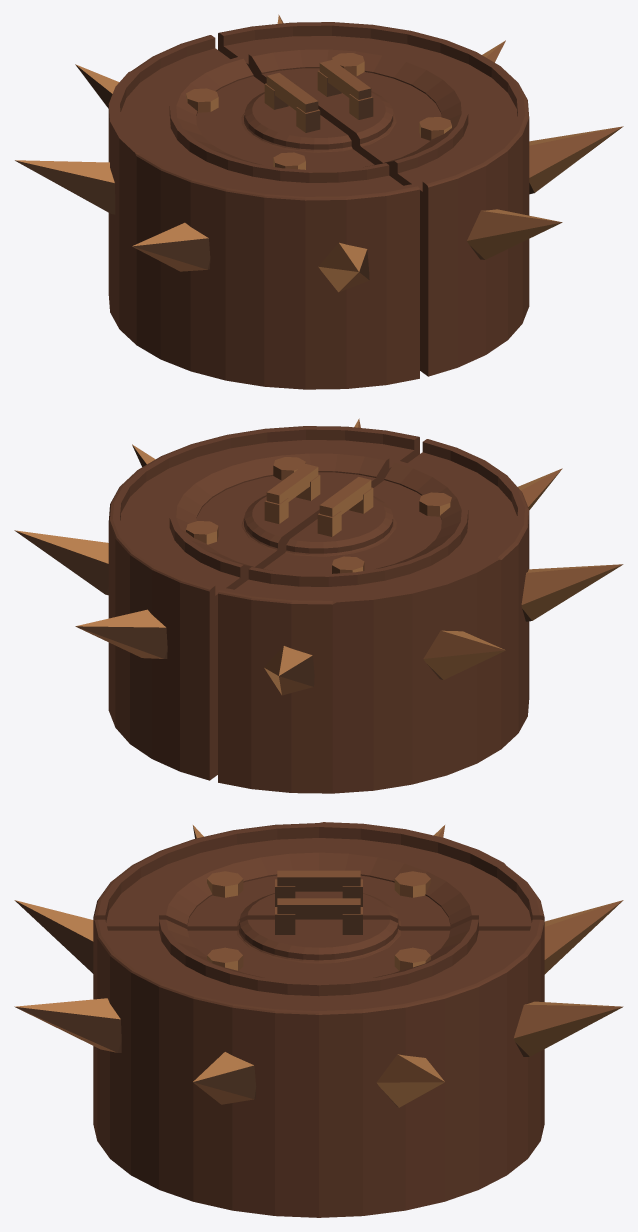
Rendered from wood_spike_door.fbx.
The picture shows the model from 3 angles, top to bottom: view 1: azimuth 30°, elevation 25°; view 2: azimuth 150°, elevation 25°; view 3: azimuth 270°, elevation 25°; orthographic projection. The views are drawn at different scales.
Parts seen in each view (by area): view 1: wood_spike_door_panel_left, wood_spike_door_panel_right; view 2: wood_spike_door_panel_left, wood_spike_door_panel_right; view 3: wood_spike_door_panel_right, wood_spike_door_panel_left.
Boxes of the visible parts, x1,y1,x2,y2 form: wood_spike_door_panel_left: [15, 35, 419, 389]; wood_spike_door_panel_right: [218, 14, 623, 376]; wood_spike_door_panel_left: [218, 439, 623, 793]; wood_spike_door_panel_right: [14, 418, 419, 780]; wood_spike_door_panel_right: [14, 898, 623, 1217]; wood_spike_door_panel_left: [14, 822, 623, 974].
Size of the model in its own units: 5.4 by 2.29 by 5.4.
Materials: 1 (1 with a texture image).
